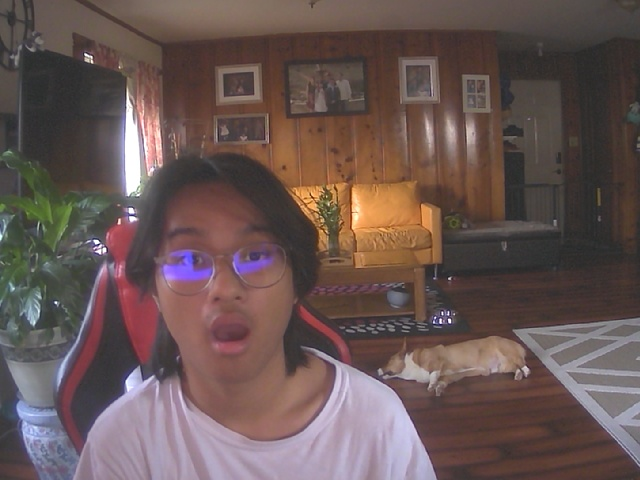fear: (149, 174, 298, 383)
